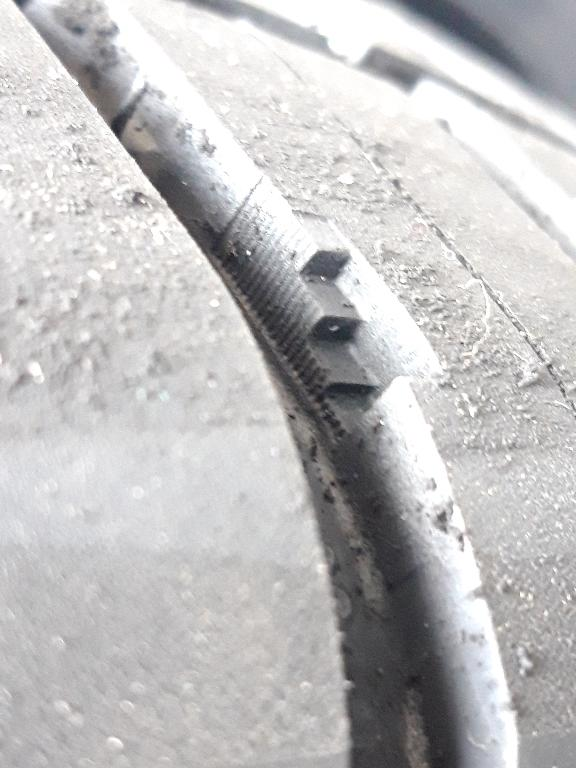temoin:75: (230, 202, 458, 450)
